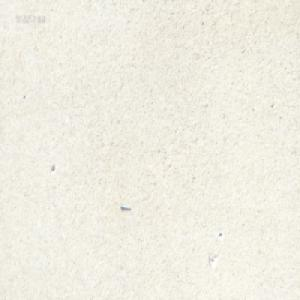Nail: (120, 203, 130, 211)
